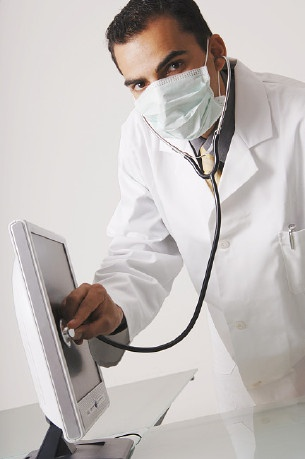Mask: (124, 43, 224, 142)
